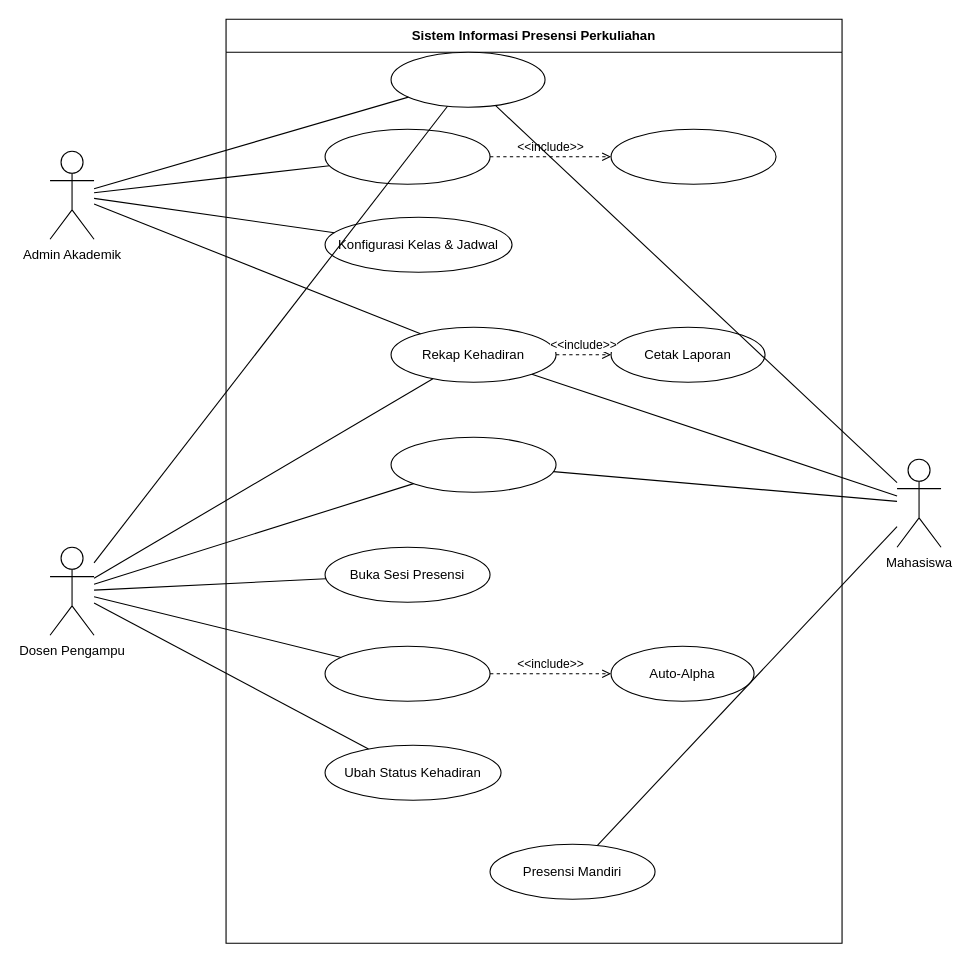
Image size: 970x963. Some labels were removed from this diagram. The centre of each missing label's shape, as x and y in pixels:
"CRUD Data Master" goes at (x=693, y=156).
"Kelola Data Master" goes at (x=407, y=156).
"Login" goes at (x=467, y=79).
"Melihat Jadwal" goes at (x=473, y=464).
"Tutup Sesi Presensi" goes at (x=407, y=673).
